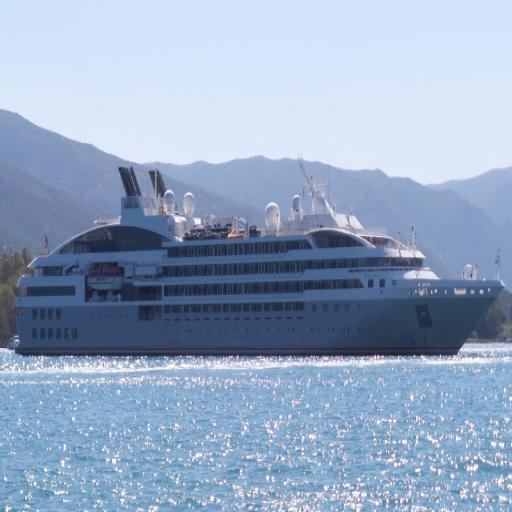cruises: (14, 163, 509, 367)
